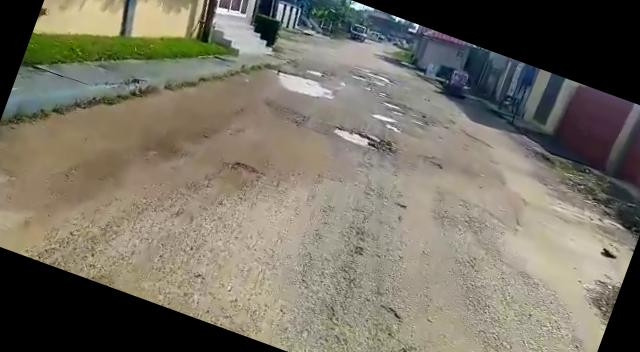pothole: (266, 64, 336, 105), (328, 119, 396, 158), (380, 97, 419, 118), (370, 110, 398, 125), (382, 120, 404, 134)
